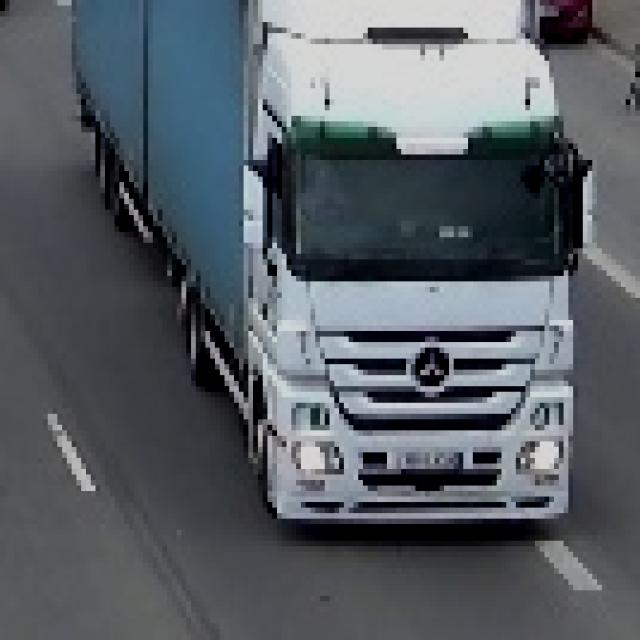TRUCK: (67, 0, 592, 530)
